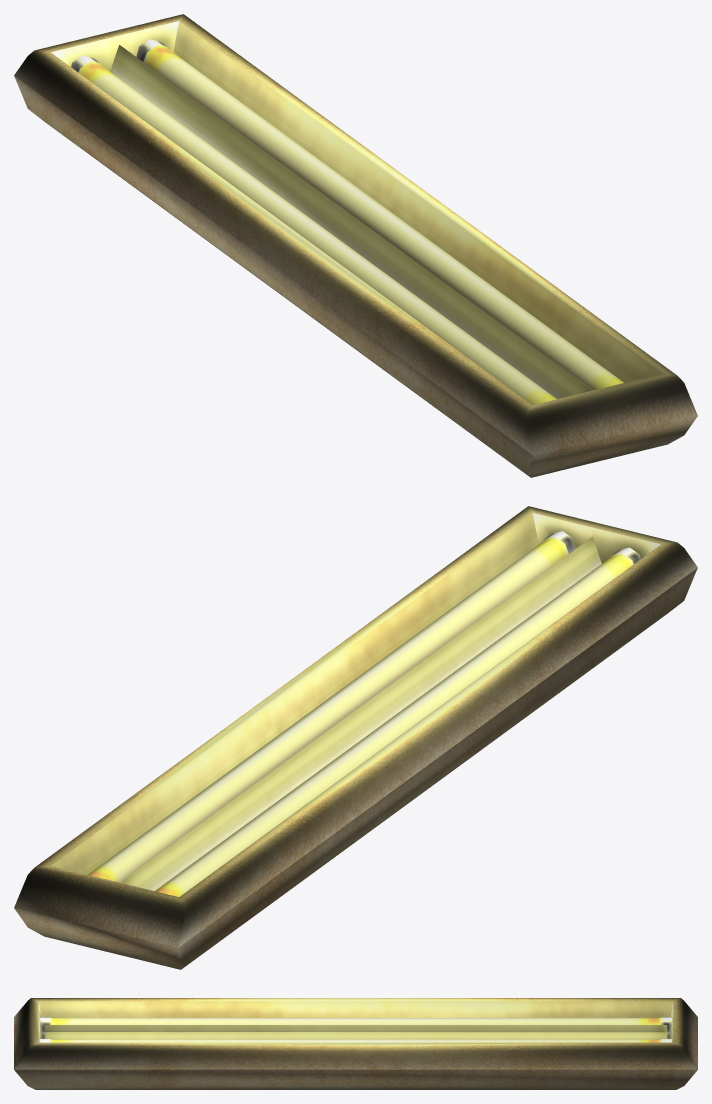
3 views of the same model, one above another, from view 1: azimuth 30°, elevation 25°; view 2: azimuth 150°, elevation 25°; view 3: azimuth 270°, elevation 25° (orthographic). The views are drawn at different scales.
Visible parts, largest first — view 1: tl; view 2: tl; view 3: tl.
Boxes of the visible parts, left/top/right/bottom form: tl: left=14, top=14, right=697, bottom=477; tl: left=14, top=506, right=697, bottom=969; tl: left=14, top=998, right=697, bottom=1089.
Size of the model in its own units: 87.59 by 35.67 by 480.
Materials: 1 (1 with a texture image).
